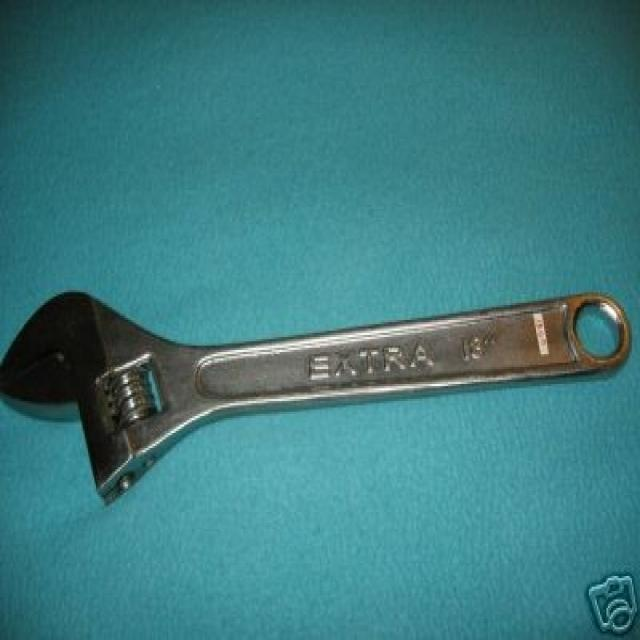wrench: (4, 267, 636, 510)
